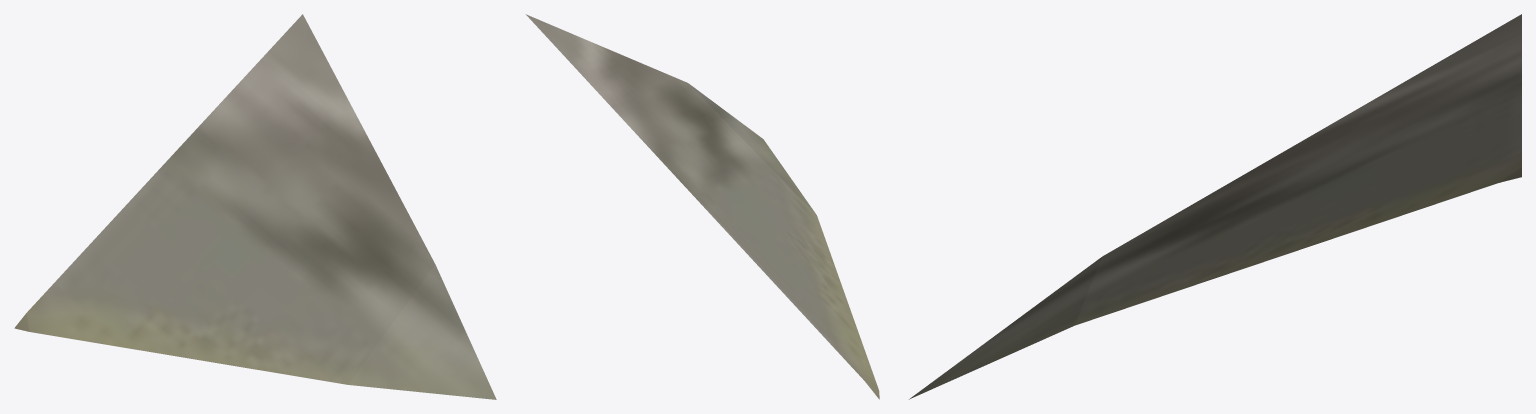
3 renders of one model, left to right at view 1: azimuth 30°, elevation 25°; view 2: azimuth 150°, elevation 25°; view 3: azimuth 270°, elevation 25°, orthographic. The views are drawn at different scales.
Size of the model in its own units: 1.12 by 0.9074 by 1.31.
1 material, 1 textured.
